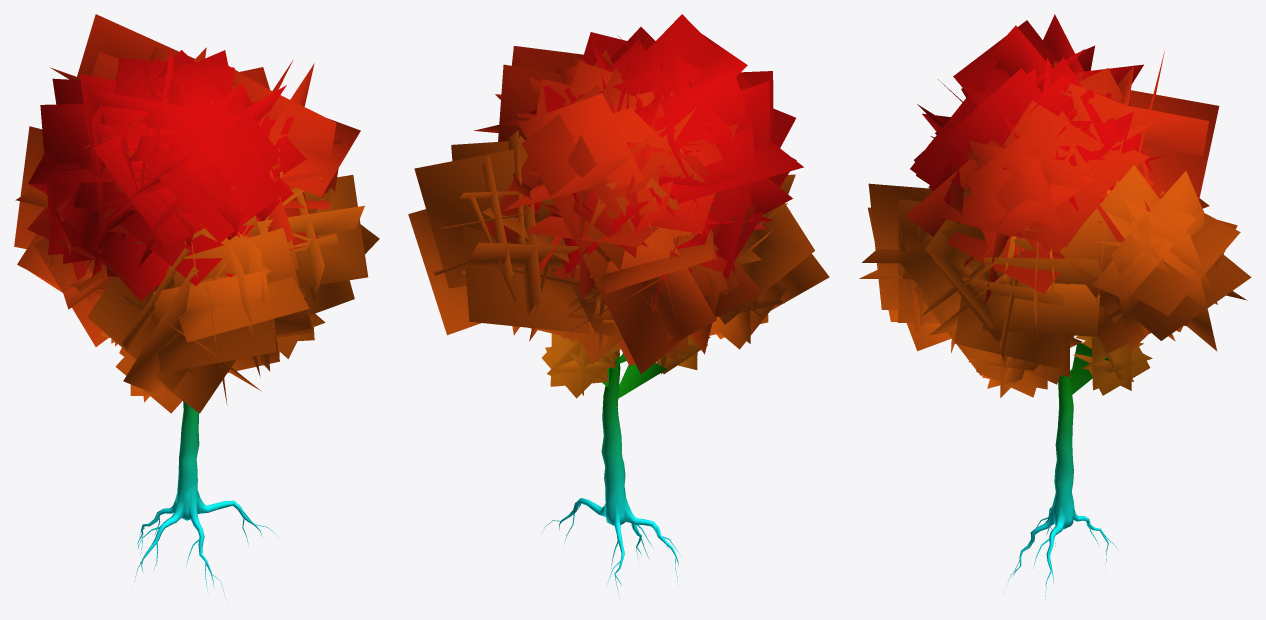
File: Maple1.fbx
3 views of the same model, side by side, from view 1: azimuth 30°, elevation 25°; view 2: azimuth 150°, elevation 25°; view 3: azimuth 270°, elevation 25° (orthographic). The views are drawn at different scales.
Visible parts, largest first — view 1: Maple1_LOD0; view 2: Maple1_LOD0; view 3: Maple1_LOD0.
Boxes of the visible parts, bbox=[...] form: Maple1_LOD0: bbox=[14, 14, 379, 595]; Maple1_LOD0: bbox=[408, 14, 829, 599]; Maple1_LOD0: bbox=[859, 14, 1251, 602].
Size of what is drawn, in the model's own units: 767 by 1244 by 810.
